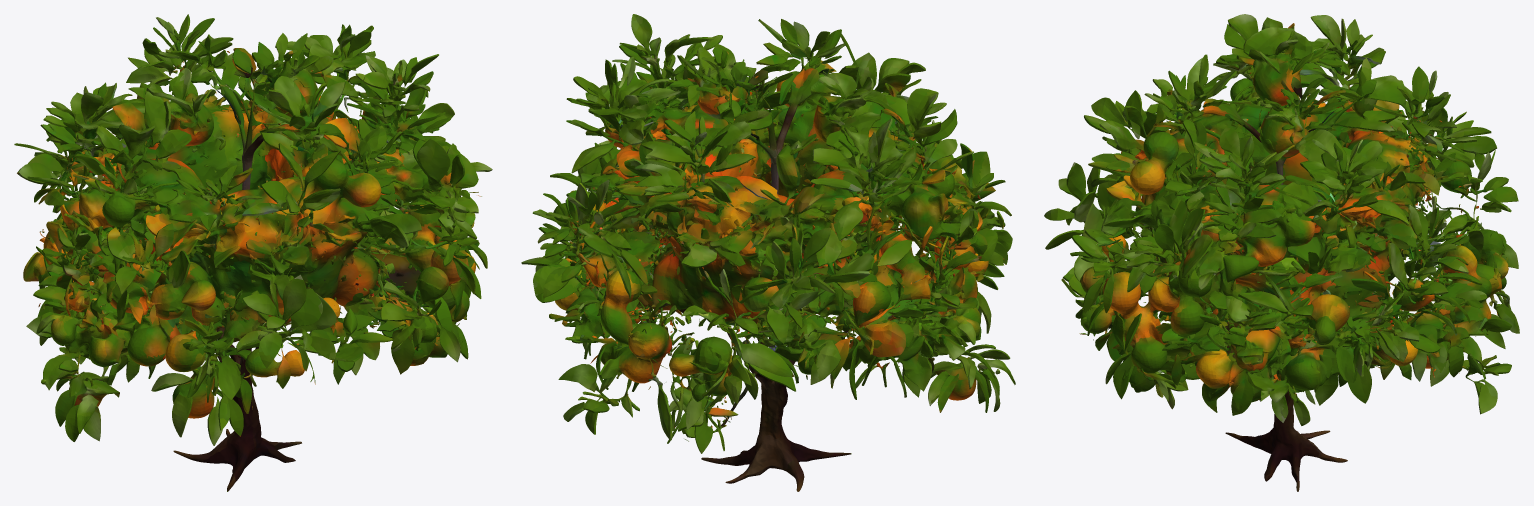
Rendered from jeruk.glb.
3 views of the same model, side by side, from view 1: azimuth 30°, elevation 25°; view 2: azimuth 150°, elevation 25°; view 3: azimuth 270°, elevation 25° (orthographic). The views are drawn at different scales.
Parts seen in each view (by area): view 1: tripo_node_cd3d6bf6-bc4f-436a-80d5-b6194540cdfd; view 2: tripo_node_cd3d6bf6-bc4f-436a-80d5-b6194540cdfd; view 3: tripo_node_cd3d6bf6-bc4f-436a-80d5-b6194540cdfd.
Boxes of the visible parts, box(x1,y1,x2,y2) form: tripo_node_cd3d6bf6-bc4f-436a-80d5-b6194540cdfd: box(14, 14, 492, 491); tripo_node_cd3d6bf6-bc4f-436a-80d5-b6194540cdfd: box(521, 14, 1015, 491); tripo_node_cd3d6bf6-bc4f-436a-80d5-b6194540cdfd: box(1044, 14, 1519, 491).
Bounding box in the file's own units: 1 × 0.8988 × 0.969.
Materials: 1 (1 with a texture image).
